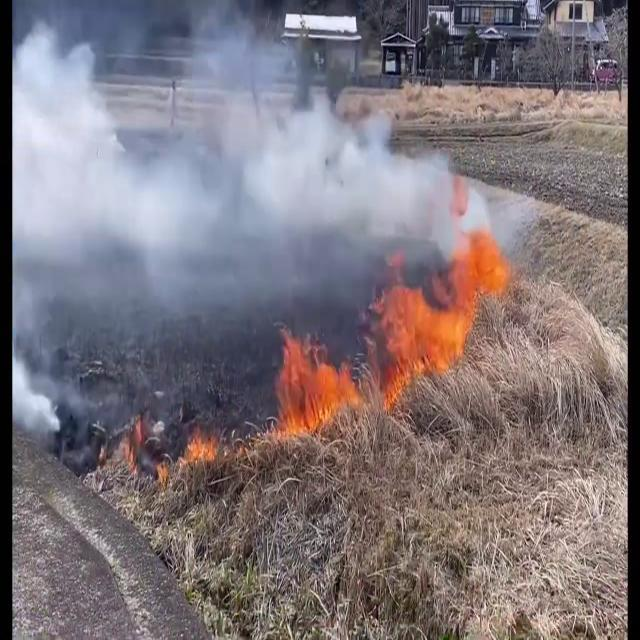Fire: (372, 218, 516, 398), (266, 326, 366, 442)
Smoke: (14, 2, 458, 344)
